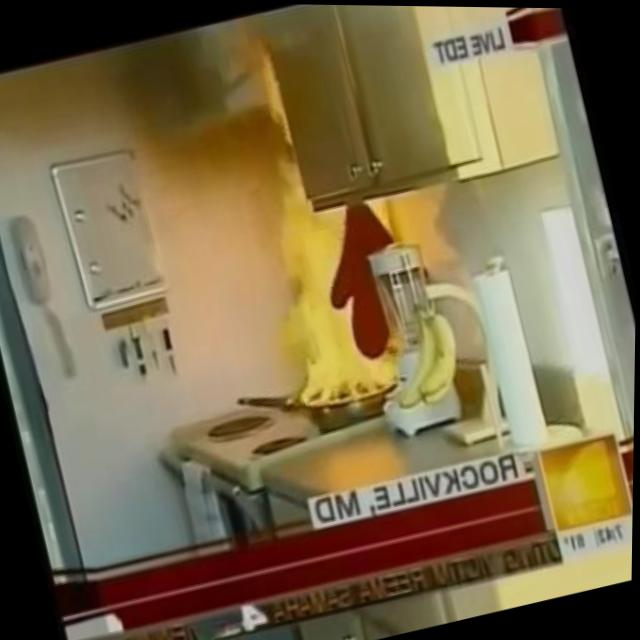fire: (236, 180, 408, 424)
